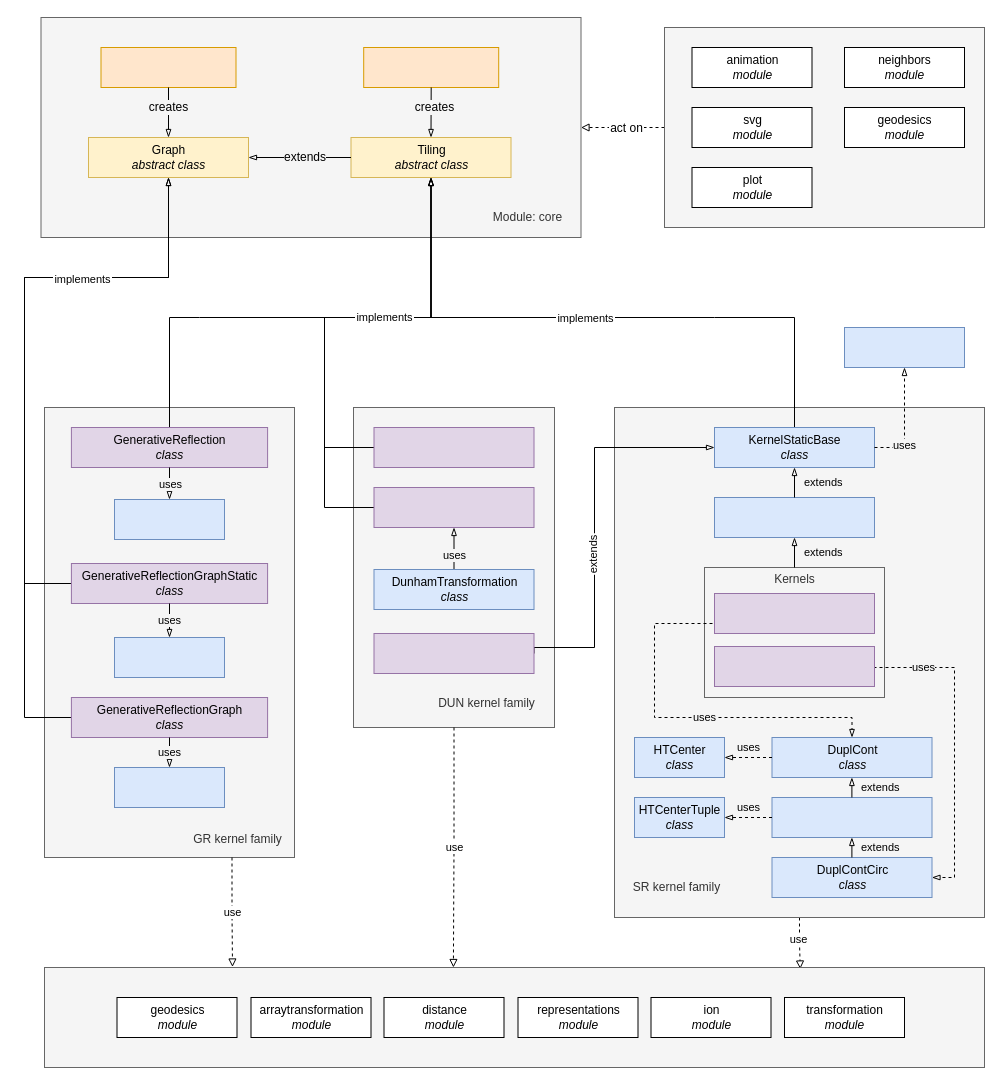
Some shapes in this 1002 by 1085 pixel diagram are drawn without their labels. The box of each missing label's shape, as (x1, y1, x2, y2) in pixels:
Dunham class: (373, 486, 534, 528)
DunhamLegacy class: (373, 632, 534, 674)
DunhamX class: (373, 426, 534, 468)
DuplContCircCom class: (771, 796, 932, 838)
GR_util class: (114, 498, 224, 540)
GRG_util class: (114, 766, 224, 808)
GRGS_util class: (114, 636, 224, 678)
HyperbolicGraph factory pattern: (100, 46, 236, 88)
HyperbolicTiling factory pattern: (363, 46, 499, 88)
HyperPolygon class: (844, 326, 964, 368)
KernelRotationalCommon class: (714, 496, 874, 538)
StaticRotationalGraph class: (714, 646, 874, 686)
StaticRotationalSector class: (714, 592, 874, 634)
